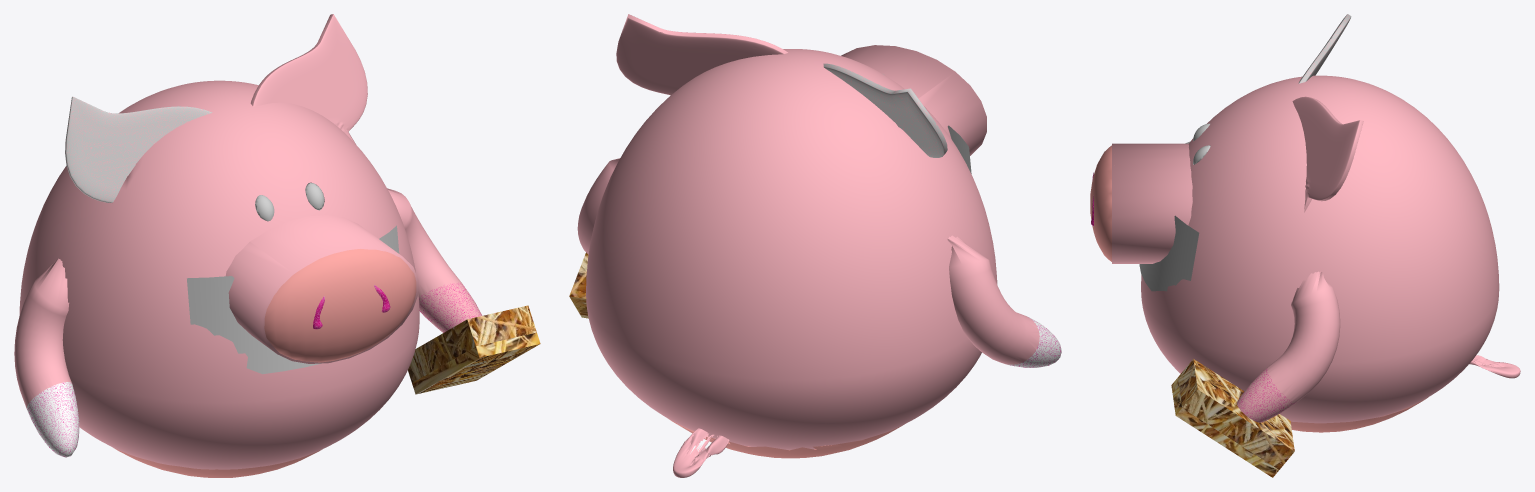
Rendered from pink_pig_brick.dae.
The picture shows the model from 3 angles, left to right: view 1: azimuth 30°, elevation 25°; view 2: azimuth 150°, elevation 25°; view 3: azimuth 270°, elevation 25°; orthographic projection. The views are drawn at different scales.
Parts seen in each view (by area): view 1: group_0 (×10), group_1, SketchUp; view 2: group_0 (×8), group_1 (×2), SketchUp; view 3: group_0 (×9), SketchUp, group_1.
Boxes of the visible parts, x1,y1,x2,y2 form: group_0 (×10): (14, 80, 482, 477); group_1: (250, 14, 367, 143); SketchUp: (408, 305, 540, 394); group_0 (×8): (577, 45, 1061, 477); group_1 (×2): (616, 14, 788, 95); SketchUp: (569, 252, 588, 318); group_0 (×9): (1090, 14, 1520, 432); SketchUp: (1171, 359, 1294, 477); group_1: (1292, 96, 1363, 212).
Size of the model in its own units: 36.05 by 32.78 by 29.86.
